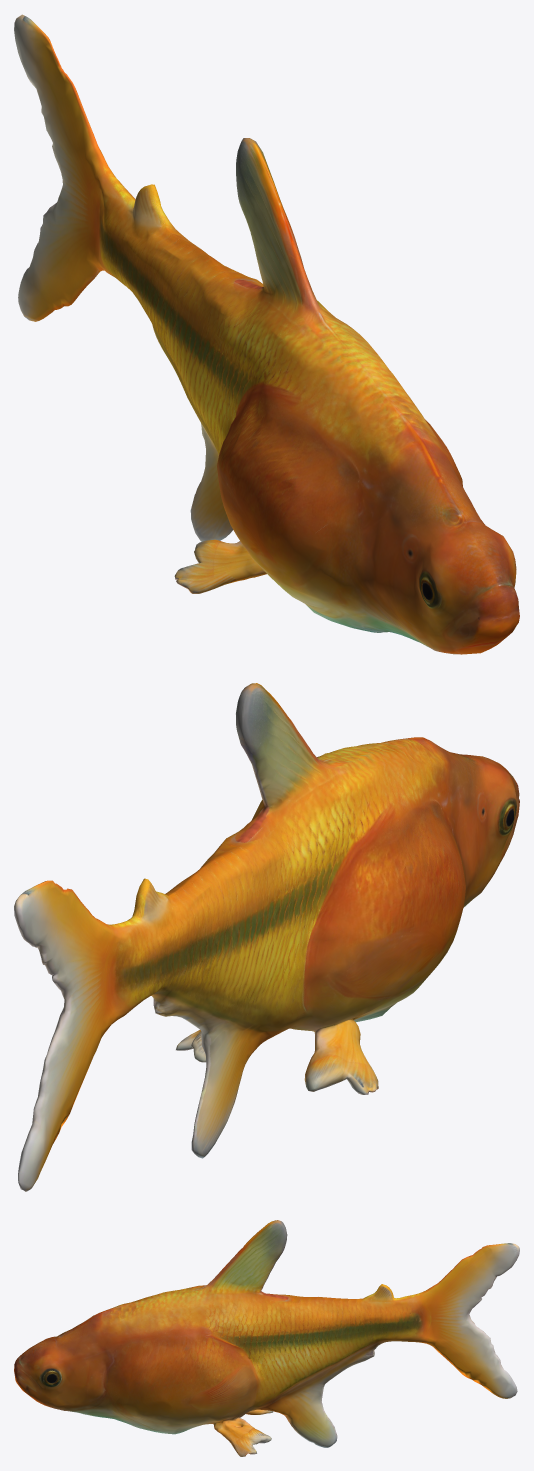
File: amandae_tetra_0604064849_texture.glb
3 renders of one model, top to bottom at view 1: azimuth 30°, elevation 25°; view 2: azimuth 150°, elevation 25°; view 3: azimuth 270°, elevation 25°, orthographic. The views are drawn at different scales.
Size of the model in its own units: 0.4622 by 0.9908 by 2.
Materials: 1 (1 with a texture image).
